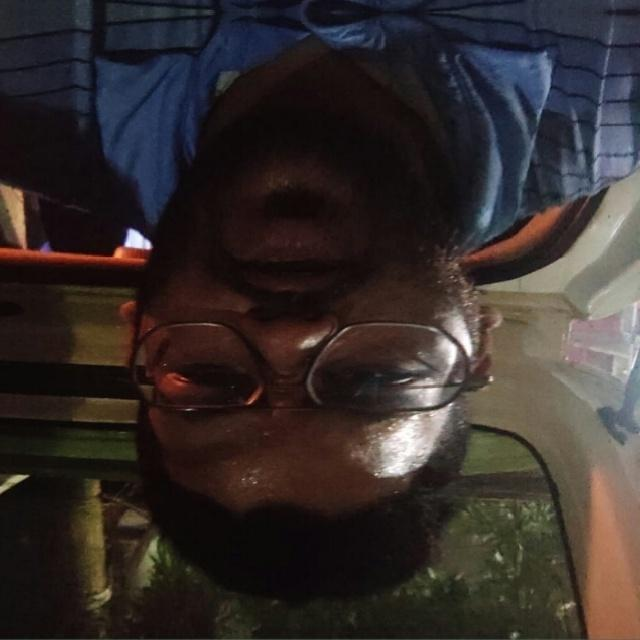Surprised: (113, 103, 486, 564)
